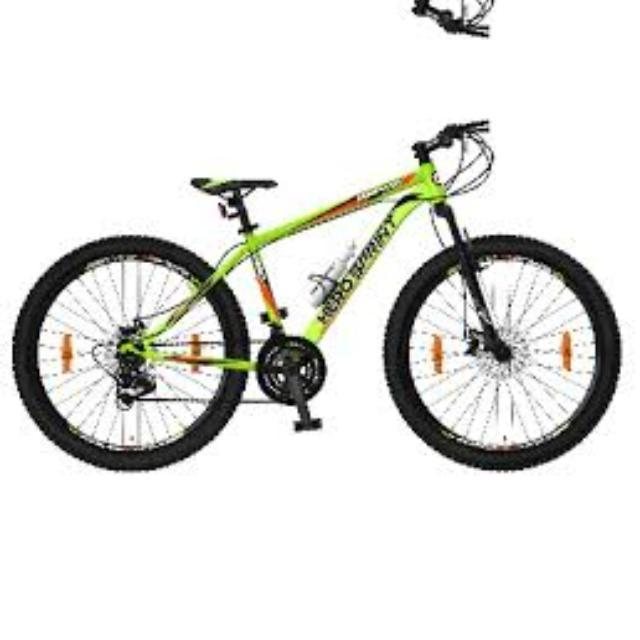obstacle: (8, 115, 626, 518), (8, 0, 626, 41), (8, 605, 626, 640)
